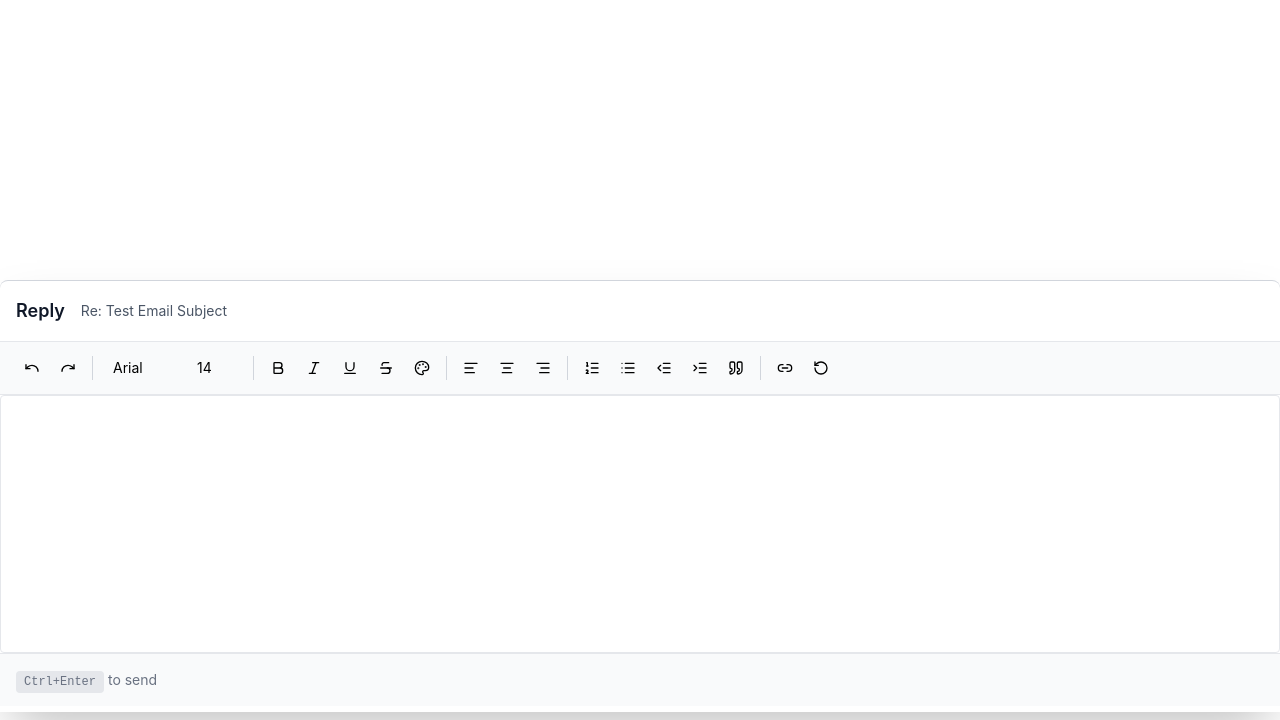
Test: EmailComposer Component › Font Controls › shows font family selector when clicked
Click the button titled "Font Family": (141, 368) [101,350,181,386]
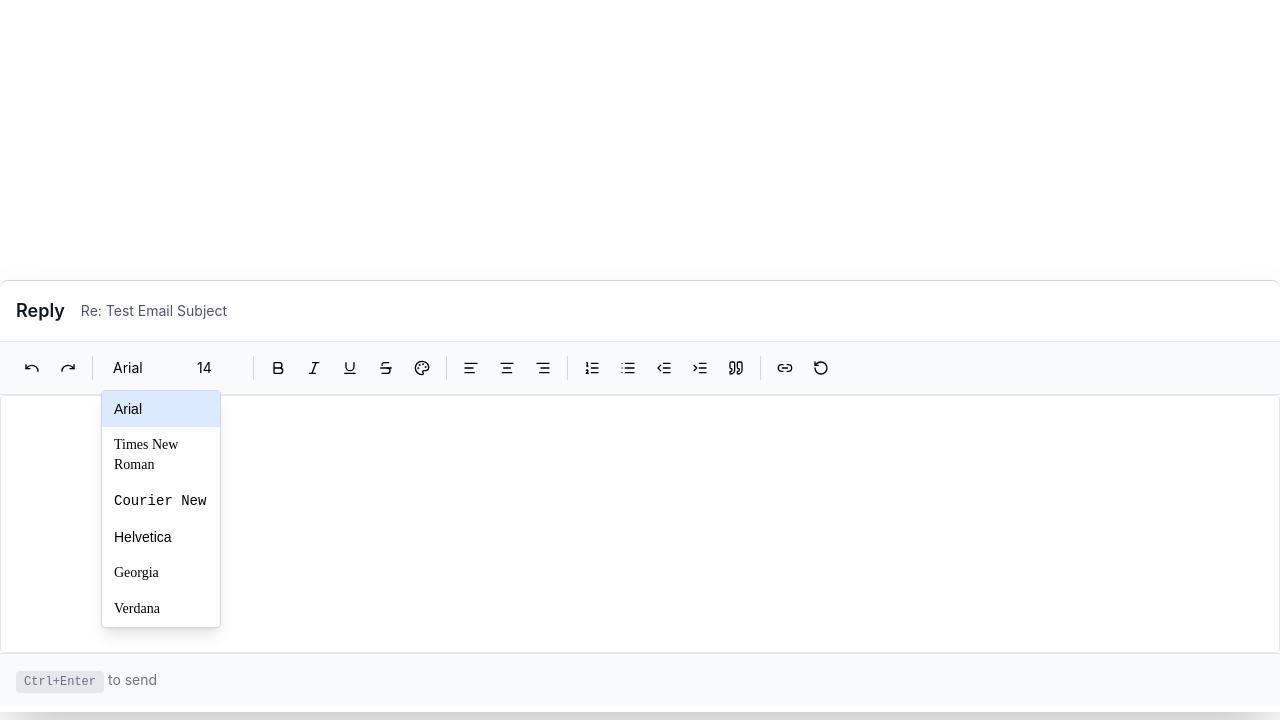
Check: the button "Times New Roman" is shown, box [102,427,220,483]
Check: the button "Helvetica" is shown, box [102,519,220,555]
Check: the button "Georgia" is shown, box [102,555,220,591]
